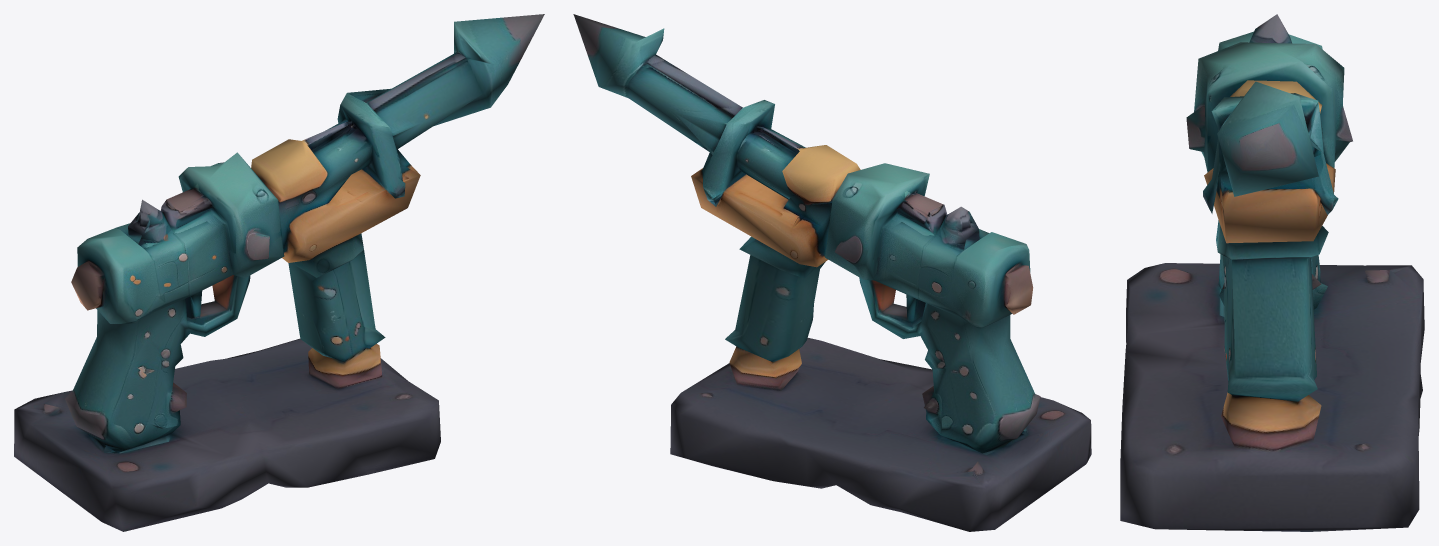
The model's file is weapon_harpoon_gun_tertiary_1500_raw.glb.
3 views of the same model, side by side, from view 1: azimuth 30°, elevation 25°; view 2: azimuth 150°, elevation 25°; view 3: azimuth 270°, elevation 25° (orthographic). The views are drawn at different scales.
Visible parts, largest first — view 1: tripo_node_c86665e1-ef24-4b73-9d51-5dc972a8693b; view 2: tripo_node_c86665e1-ef24-4b73-9d51-5dc972a8693b; view 3: tripo_node_c86665e1-ef24-4b73-9d51-5dc972a8693b.
Part boxes in pixels (left/top/right/bottom): tripo_node_c86665e1-ef24-4b73-9d51-5dc972a8693b: left=14, top=14, right=544, bottom=531; tripo_node_c86665e1-ef24-4b73-9d51-5dc972a8693b: left=573, top=14, right=1091, bottom=531; tripo_node_c86665e1-ef24-4b73-9d51-5dc972a8693b: left=1120, top=14, right=1424, bottom=531.
Bounding box in the file's own units: 0.9374 × 0.6937 × 0.3921.
Materials: 1 (1 with a texture image).
